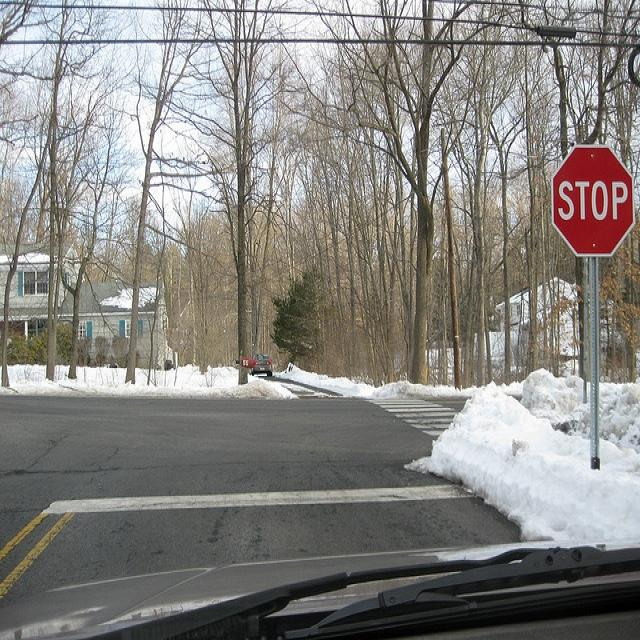car: (0, 540, 638, 629), (250, 351, 271, 373)
pole: (438, 126, 463, 386), (584, 255, 603, 469)
